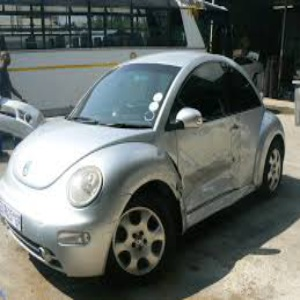door: (177, 124, 256, 209)
